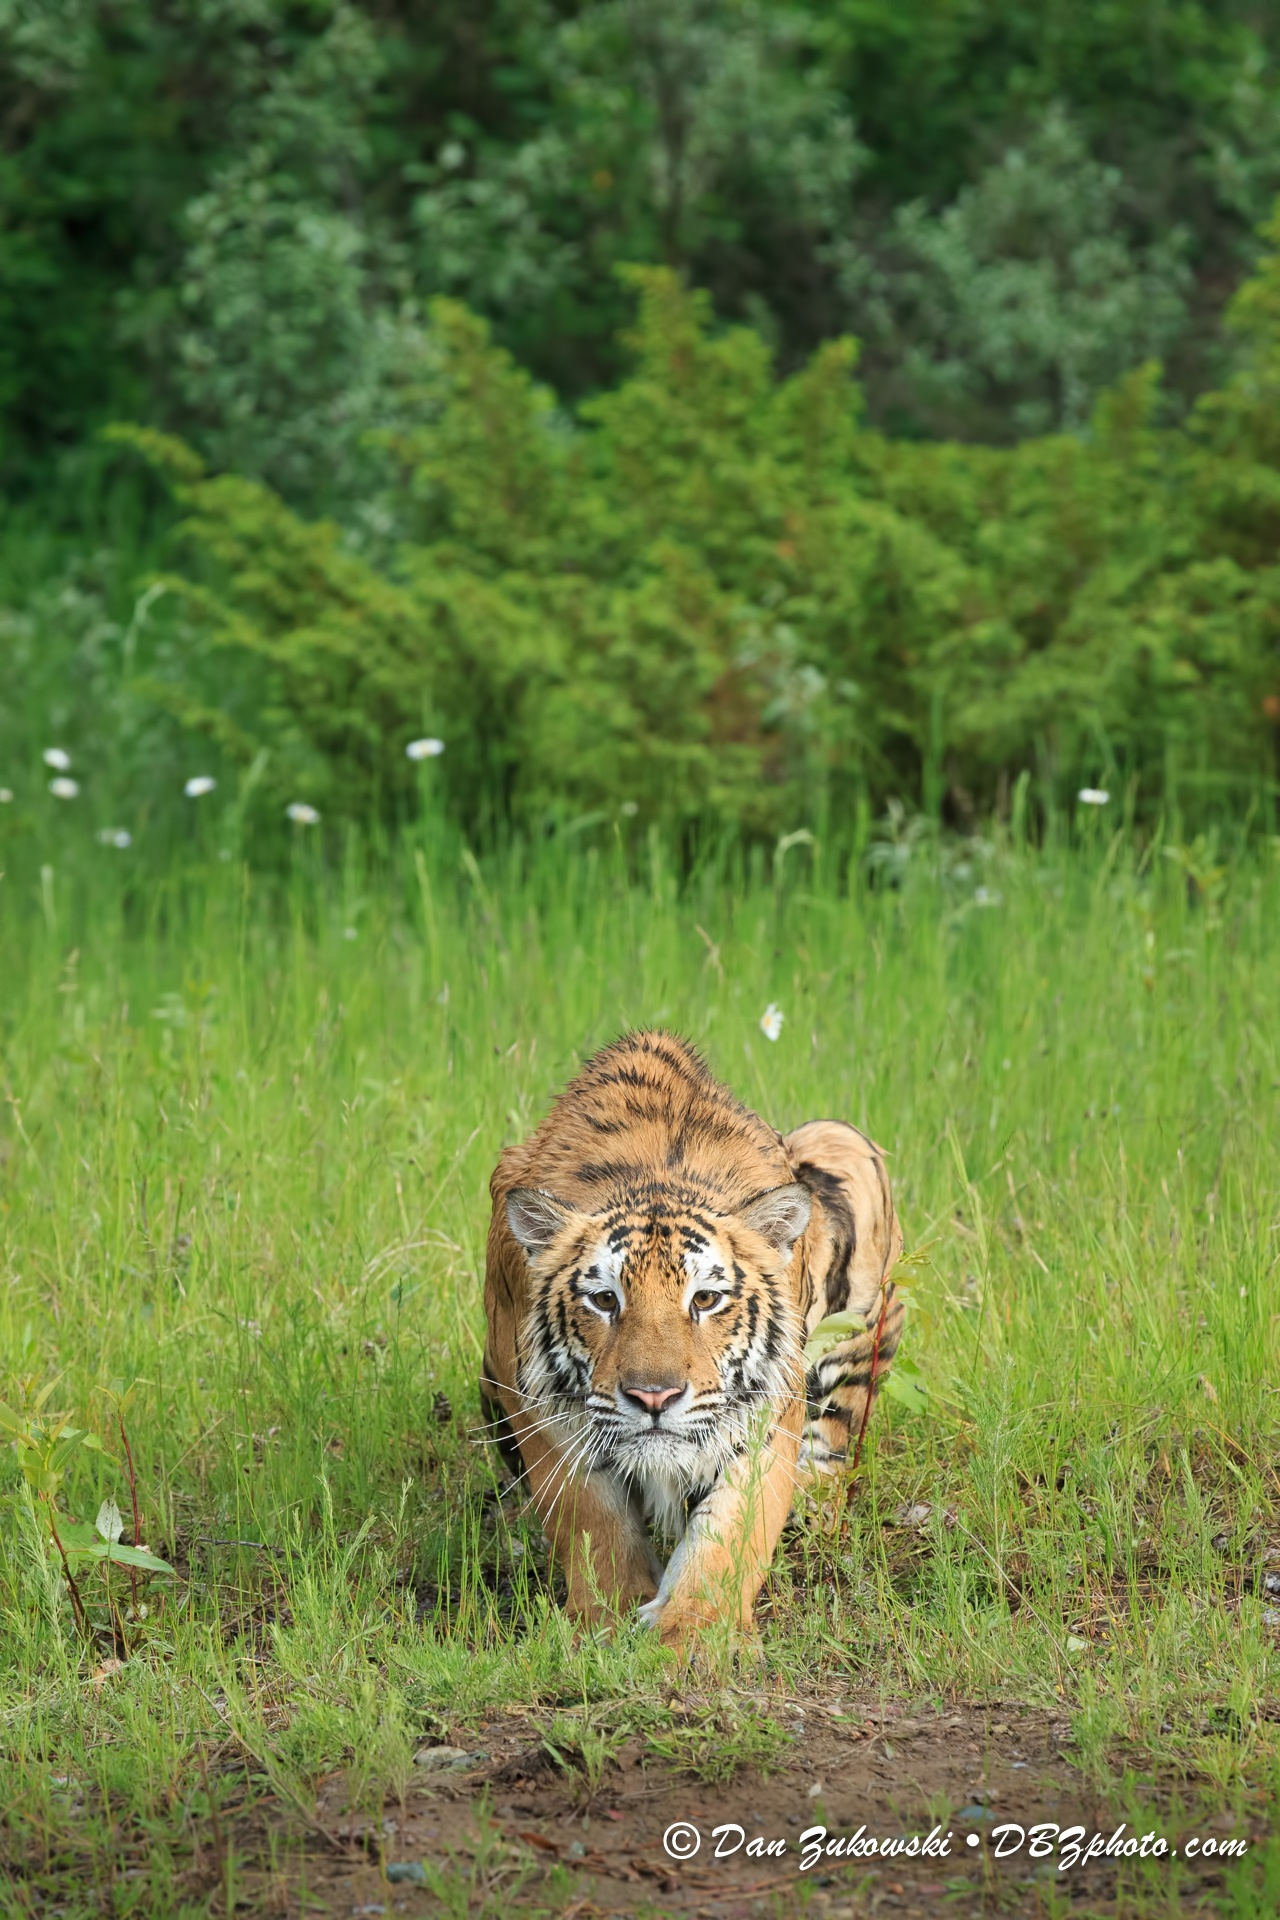tiger: (433, 989, 931, 1630)
